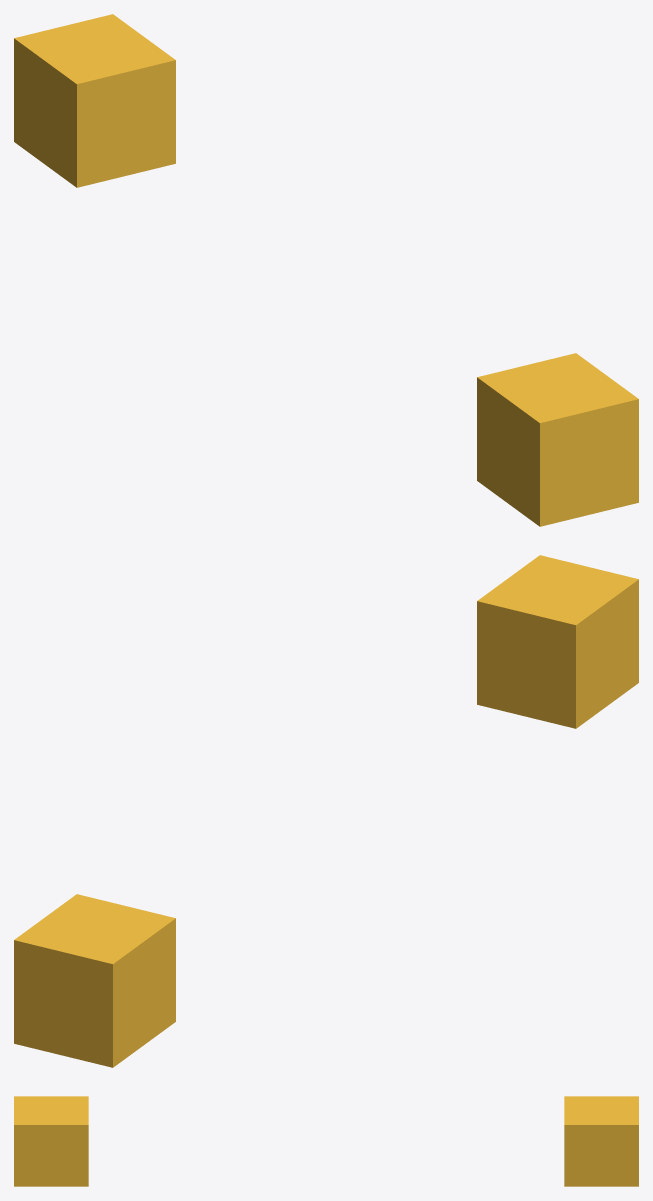
The model's file is FrontLights1.glb.
3 views of the same model, one above another, from view 1: azimuth 30°, elevation 25°; view 2: azimuth 150°, elevation 25°; view 3: azimuth 270°, elevation 25° (orthographic). The views are drawn at different scales.
Parts seen in each view (by area): view 1: Cube.012; view 2: Cube.012; view 3: Cube.012.
Boxes of the visible parts, x1,y1,x2,y2 form: Cube.012: (14, 14, 638, 526); Cube.012: (14, 555, 638, 1067); Cube.012: (14, 1096, 638, 1186).
Bounding box in the file's own units: 0.00645 × 0.00645 × 0.0594.
1 material, 1 textured.
